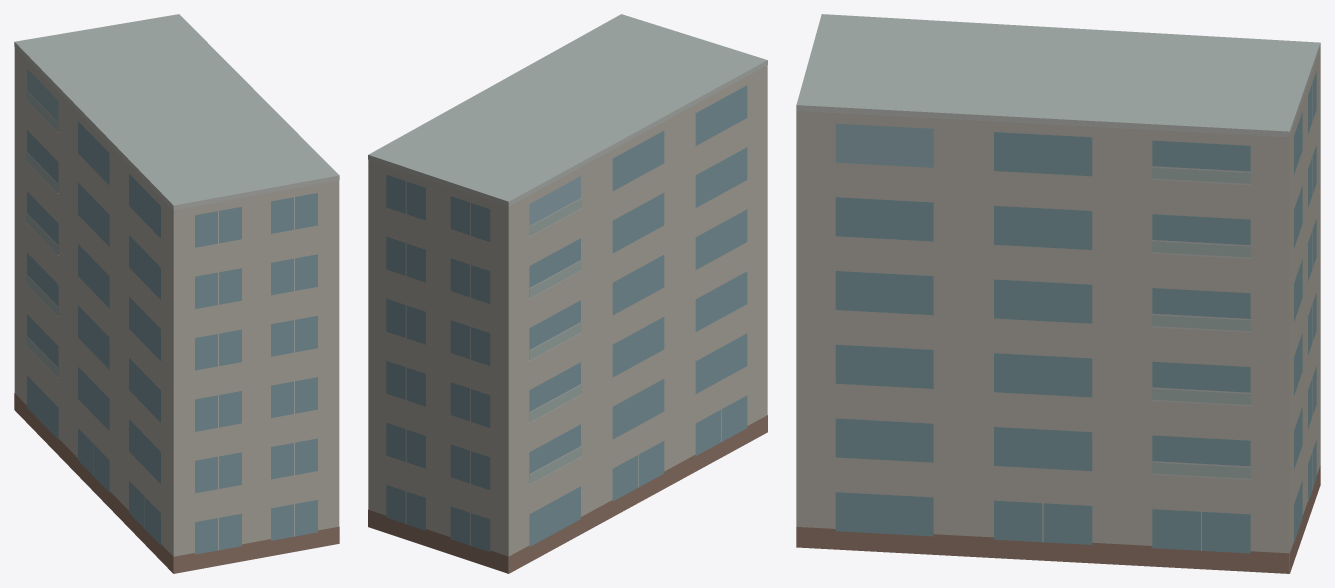
The model's file is survey-upis-32670669.glb.
The picture shows the model from 3 angles, left to right: view 1: azimuth 30°, elevation 25°; view 2: azimuth 150°, elevation 25°; view 3: azimuth 270°, elevation 25°; orthographic projection. The views are drawn at different scales.
Parts seen in each view (by area): view 1: survey-upis-32670669.tmp; view 2: survey-upis-32670669.tmp; view 3: survey-upis-32670669.tmp.
Part boxes in pixels (box(x1,y1,x2,y2)): survey-upis-32670669.tmp: box(14, 14, 339, 573); survey-upis-32670669.tmp: box(368, 14, 767, 573); survey-upis-32670669.tmp: box(796, 14, 1320, 573).
Size of the model in its own units: 10.72 by 18.8 by 20.2.
